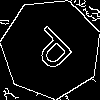P: (26, 23, 82, 79)
